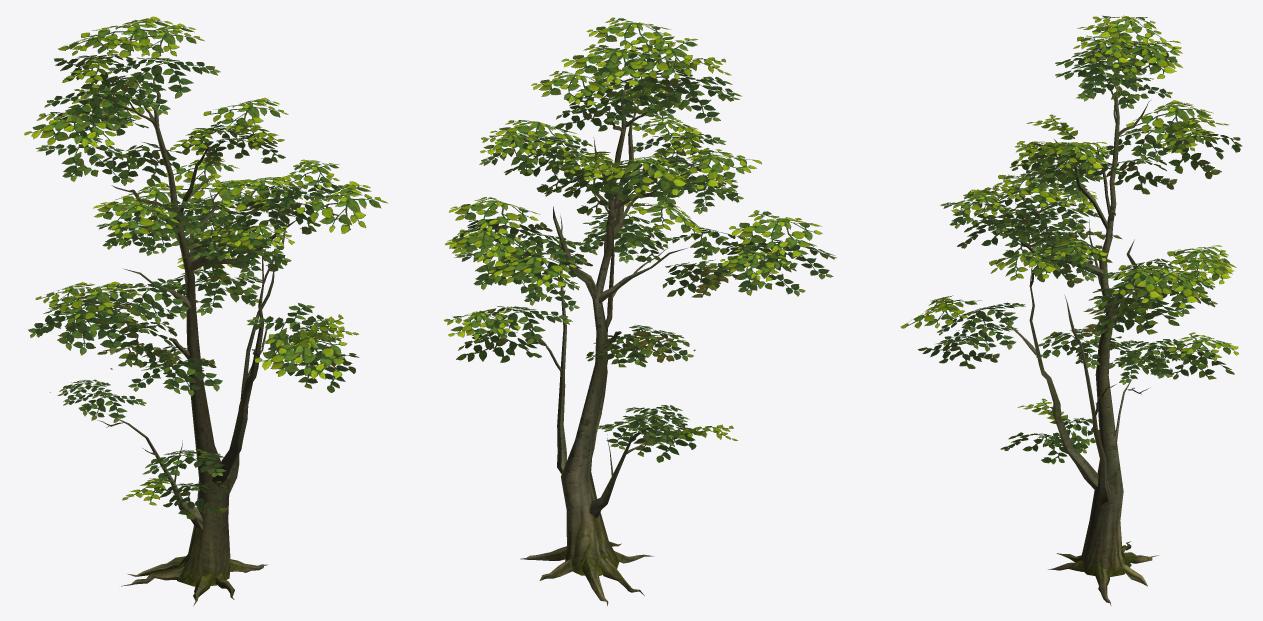
Rendered from 4007_Item_shu_3.FBX.
3 views of the same model, side by side, from view 1: azimuth 30°, elevation 25°; view 2: azimuth 150°, elevation 25°; view 3: azimuth 270°, elevation 25° (orthographic). The views are drawn at different scales.
Visible parts, largest first — view 1: 4007_Item_shu_3; view 2: 4007_Item_shu_3; view 3: 4007_Item_shu_3.
Part boxes in pixels (x1,y1,x2,y2): 4007_Item_shu_3: (24,16,387,606); 4007_Item_shu_3: (444,17,836,606); 4007_Item_shu_3: (900,15,1242,605).
Bounding box in the file's own units: 181 × 266 × 165.
